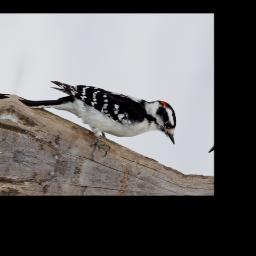Woodpecker: (7, 66, 187, 179)
